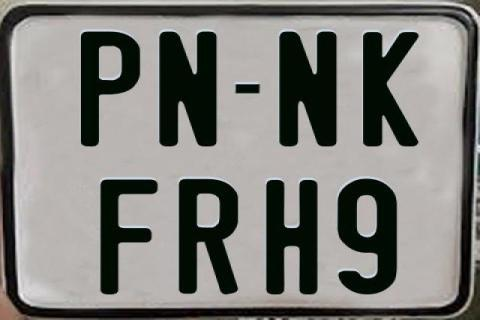0: (335, 178, 399, 296)
F: (97, 178, 156, 296)
H: (263, 180, 316, 297)
K: (361, 31, 423, 148)
N: (159, 31, 223, 151), (277, 30, 341, 146)
P: (78, 32, 140, 152)
R: (176, 177, 237, 293)
